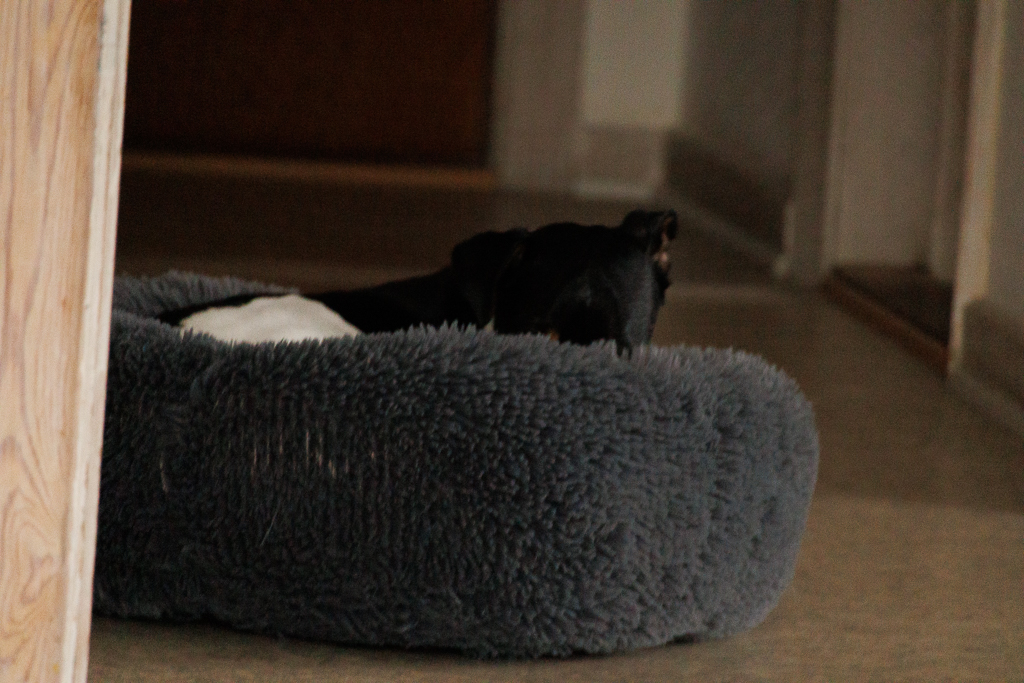Dog: (140, 187, 694, 376)
